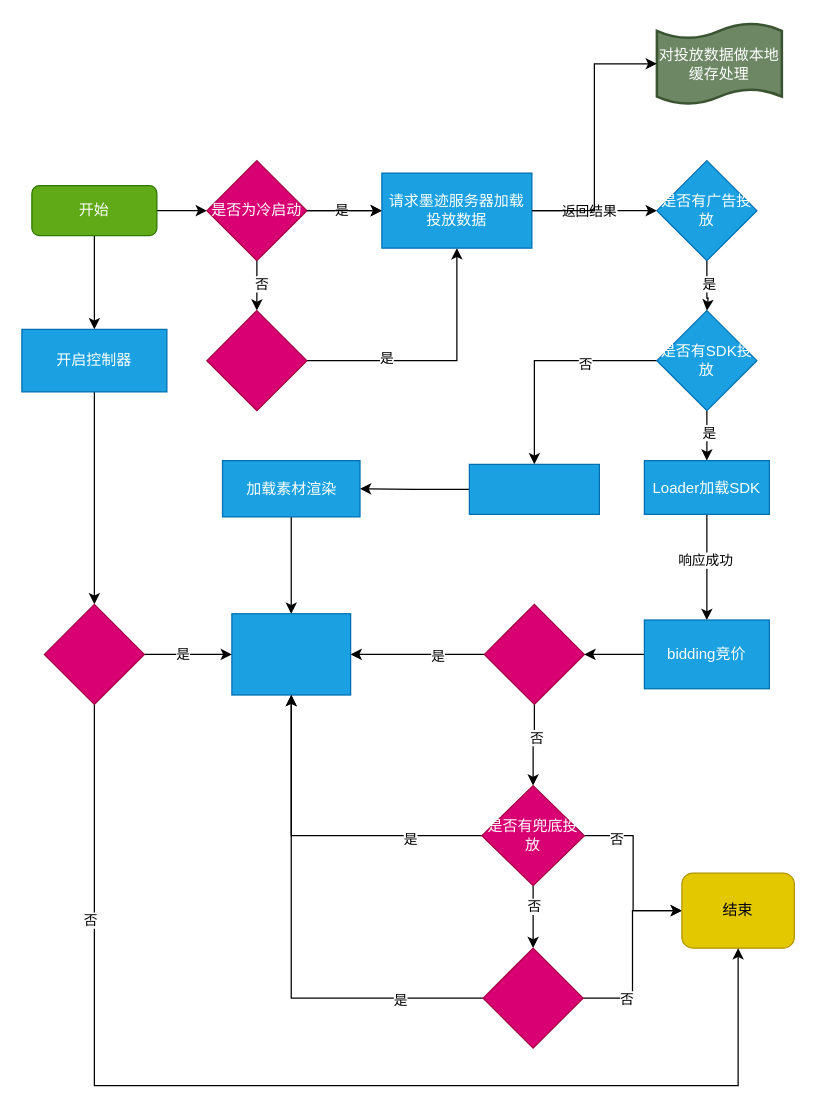
Image size: 816x1118. Some labels were removed from this diagram. Here are the shapes that lost their labels. From the top down, the centre of each, then its label:
At pixel 256 360: "是否符合热启动开屏条件".
At pixel 533 488: "适配转化样式".
At pixel 93 653: "是否有可用广告".
At pixel 291 653: "直接add视图展示".
At pixel 533 653: "是否有最优广告".
At pixel 532 997: "是否有本地打底广告".
